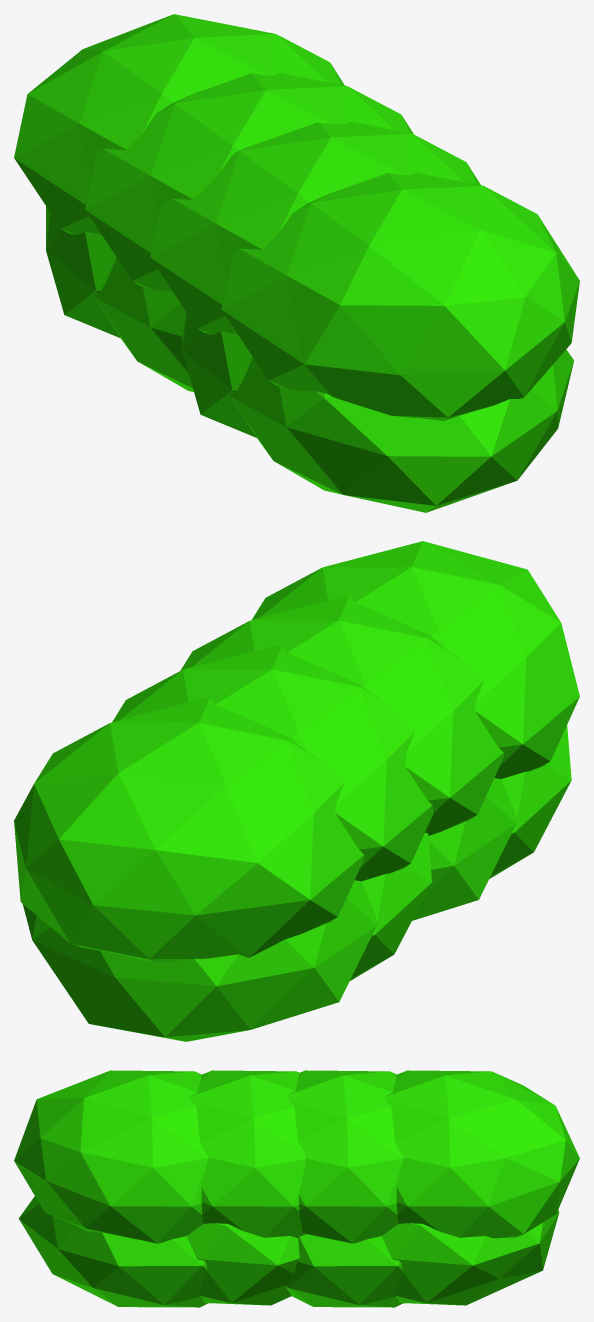
The model's file is shrubs2.fbx.
3 views of the same model, one above another, from view 1: azimuth 30°, elevation 25°; view 2: azimuth 150°, elevation 25°; view 3: azimuth 270°, elevation 25° (orthographic). The views are drawn at different scales.
Visible parts, largest first — view 1: Icosphere.004; view 2: Icosphere.004; view 3: Icosphere.004.
Boxes of the visible parts, x1,y1,x2,y2 form: Icosphere.004: (14, 14, 579, 512); Icosphere.004: (14, 541, 579, 1041); Icosphere.004: (14, 1070, 579, 1307).
Bounding box in the file's own units: 814 × 771 × 1857.
